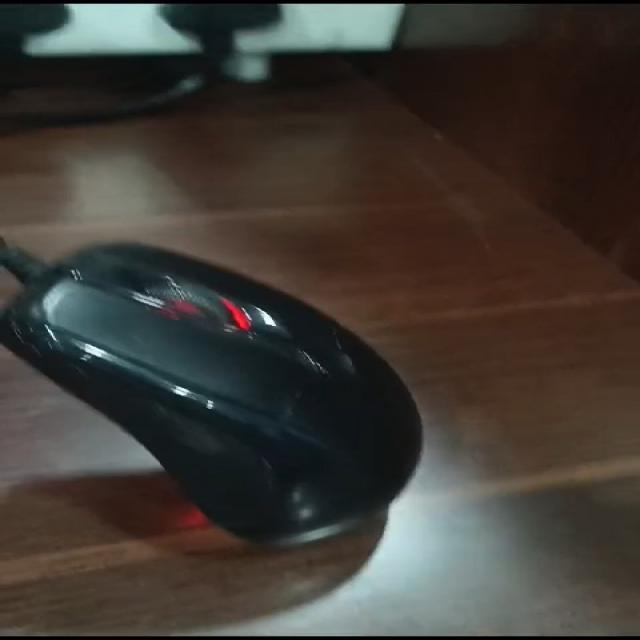mouse: (0, 206, 459, 566)
